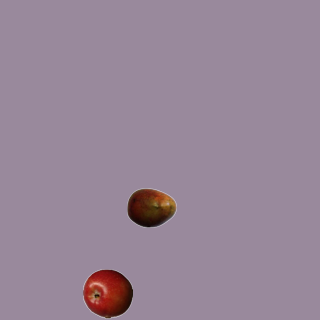Apple Braeburn: (82, 268, 132, 318)
Mango Red: (126, 182, 176, 232)
